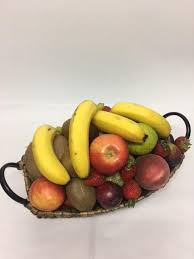banana: (26, 110, 73, 189), (61, 91, 103, 176), (89, 99, 176, 139)
